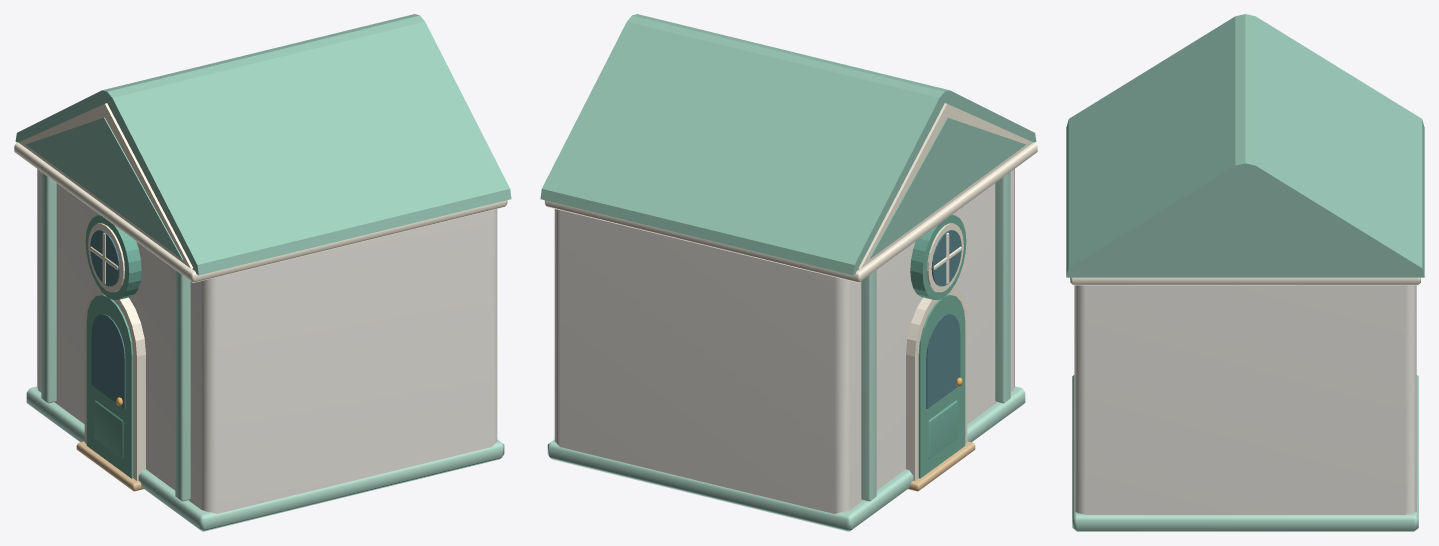
Rendered from town_house_b.glb.
The picture shows the model from 3 angles, left to right: view 1: azimuth 30°, elevation 25°; view 2: azimuth 150°, elevation 25°; view 3: azimuth 270°, elevation 25°; orthographic projection. The views are drawn at different scales.
Visible parts, largest first — view 1: Shell, Roof, Facade, Gable, Step; view 2: Shell, Roof, Facade, Gable, Step; view 3: Shell, Roof.
Part boxes in pixels (bbox=[...]): Shell: bbox=[26, 169, 504, 531]; Roof: bbox=[14, 14, 511, 282]; Facade: bbox=[41, 172, 190, 501]; Gable: bbox=[18, 103, 192, 268]; Step: bbox=[76, 441, 143, 491]; Shell: bbox=[547, 169, 1025, 531]; Roof: bbox=[540, 14, 1037, 282]; Facade: bbox=[861, 172, 1010, 501]; Gable: bbox=[859, 103, 1033, 268]; Step: bbox=[908, 441, 975, 491]; Shell: bbox=[1072, 285, 1418, 531]; Roof: bbox=[1066, 14, 1424, 285].
Bounding box in the file's own units: 3.5 × 4 × 3.5.
Materials: 8 (8 with a texture image).
